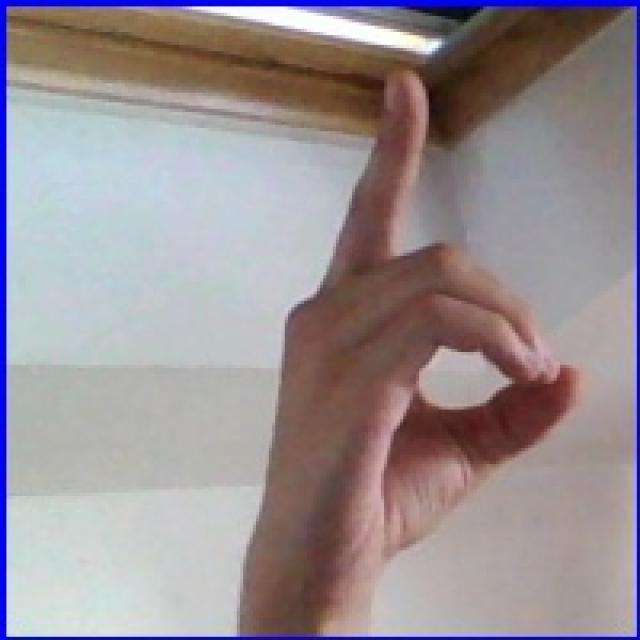Letra D: (201, 42, 609, 621)
